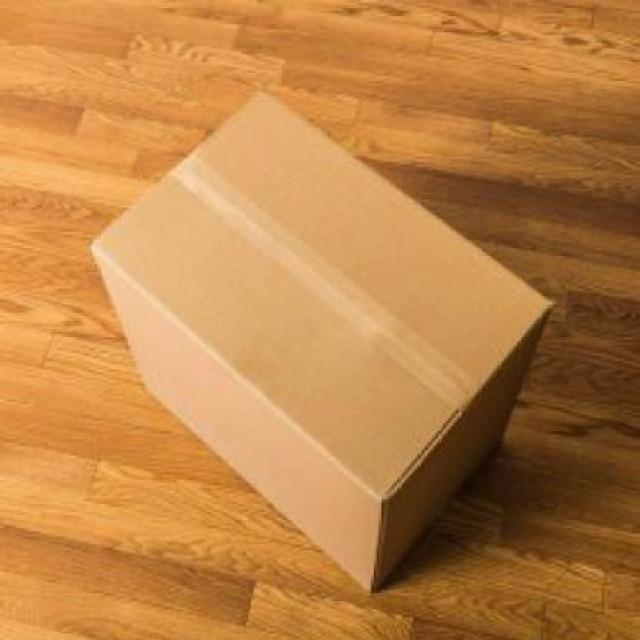box: (82, 83, 560, 607)
